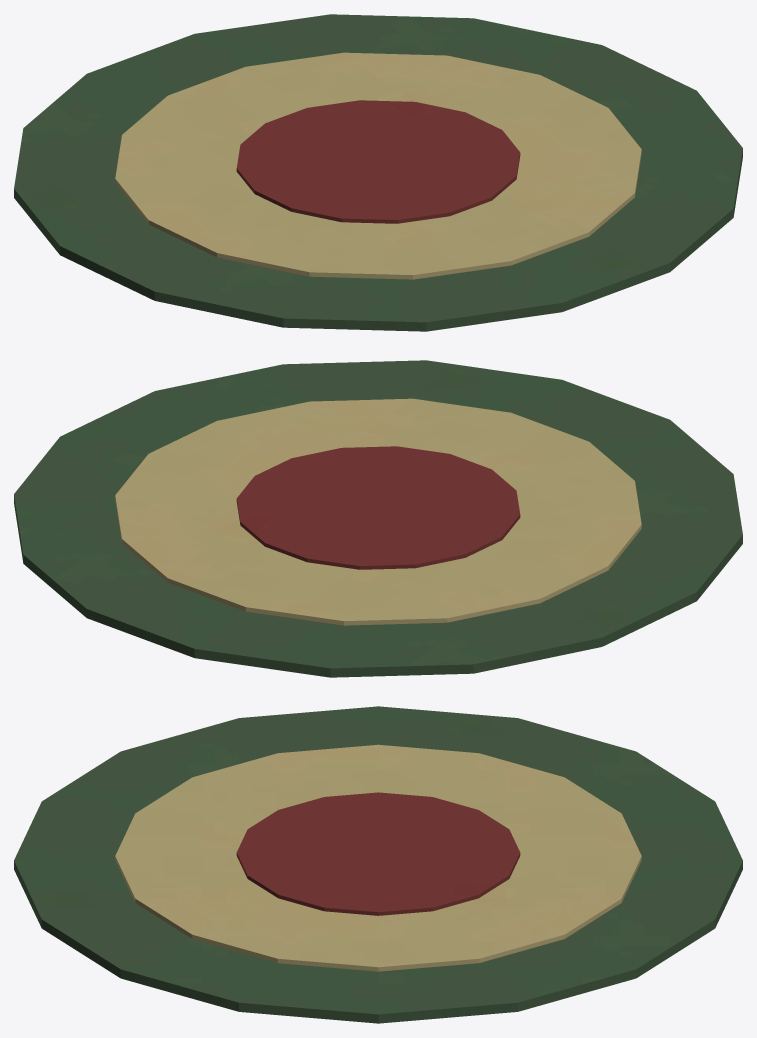
The model's file is rug_round_01.glb.
The picture shows the model from 3 angles, top to bottom: view 1: azimuth 30°, elevation 25°; view 2: azimuth 150°, elevation 25°; view 3: azimuth 270°, elevation 25°; orthographic projection.
Visible parts, largest first — view 1: rug_round_01; view 2: rug_round_01; view 3: rug_round_01.
Part boxes in pixels (x1,y1,x2,y2): rug_round_01: [14, 14, 742, 331]; rug_round_01: [14, 360, 742, 677]; rug_round_01: [14, 706, 742, 1023].
Bounding box in the file's own units: 1.8 × 0.047 × 1.8.
Materials: 3 (3 with a texture image).
